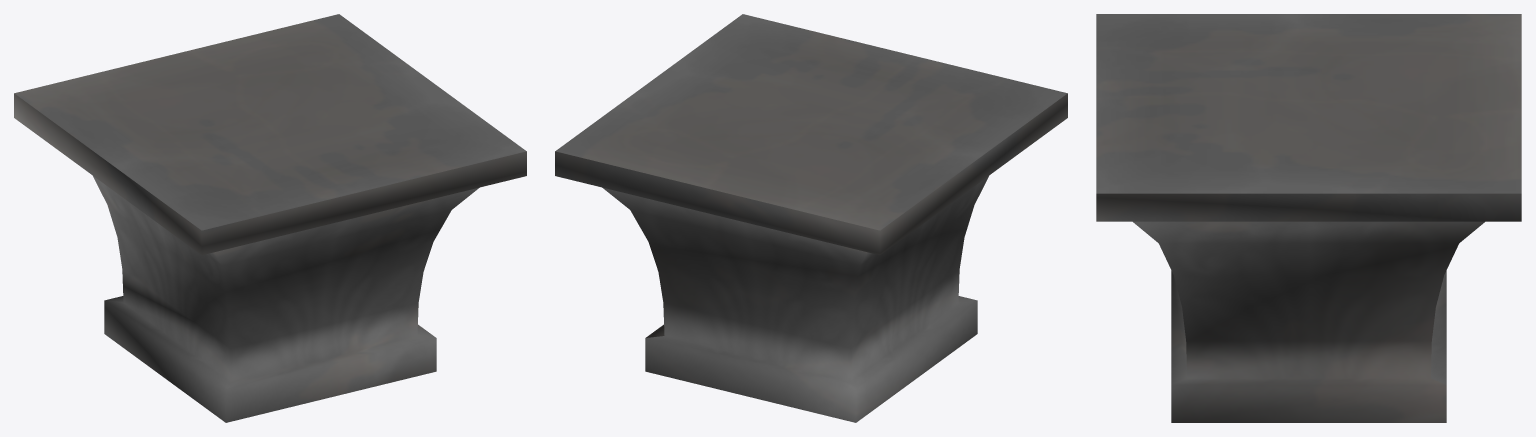
Rendered from Column_01_Cap_03.fbx.
3 renders of one model, left to right at view 1: azimuth 30°, elevation 25°; view 2: azimuth 150°, elevation 25°; view 3: azimuth 270°, elevation 25°, orthographic. The views are drawn at different scales.
Visible parts, largest first — view 1: Column_01_Cap_03; view 2: Column_01_Cap_03; view 3: Column_01_Cap_03.
Part boxes in pixels (x1,y1,x2,y2): Column_01_Cap_03: (14, 14, 526, 422); Column_01_Cap_03: (555, 14, 1067, 422); Column_01_Cap_03: (1096, 14, 1521, 422).
Size of the model in its own units: 0.9419 by 0.6381 by 0.9419.
